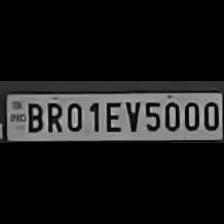0: (62, 100, 84, 132), (161, 99, 181, 131), (200, 99, 220, 131), (182, 99, 200, 131)
1: (85, 100, 102, 132)
5: (141, 98, 161, 132)
B: (24, 100, 42, 132)
E: (102, 99, 122, 133)
R: (43, 100, 62, 132)
V: (123, 99, 141, 133)
